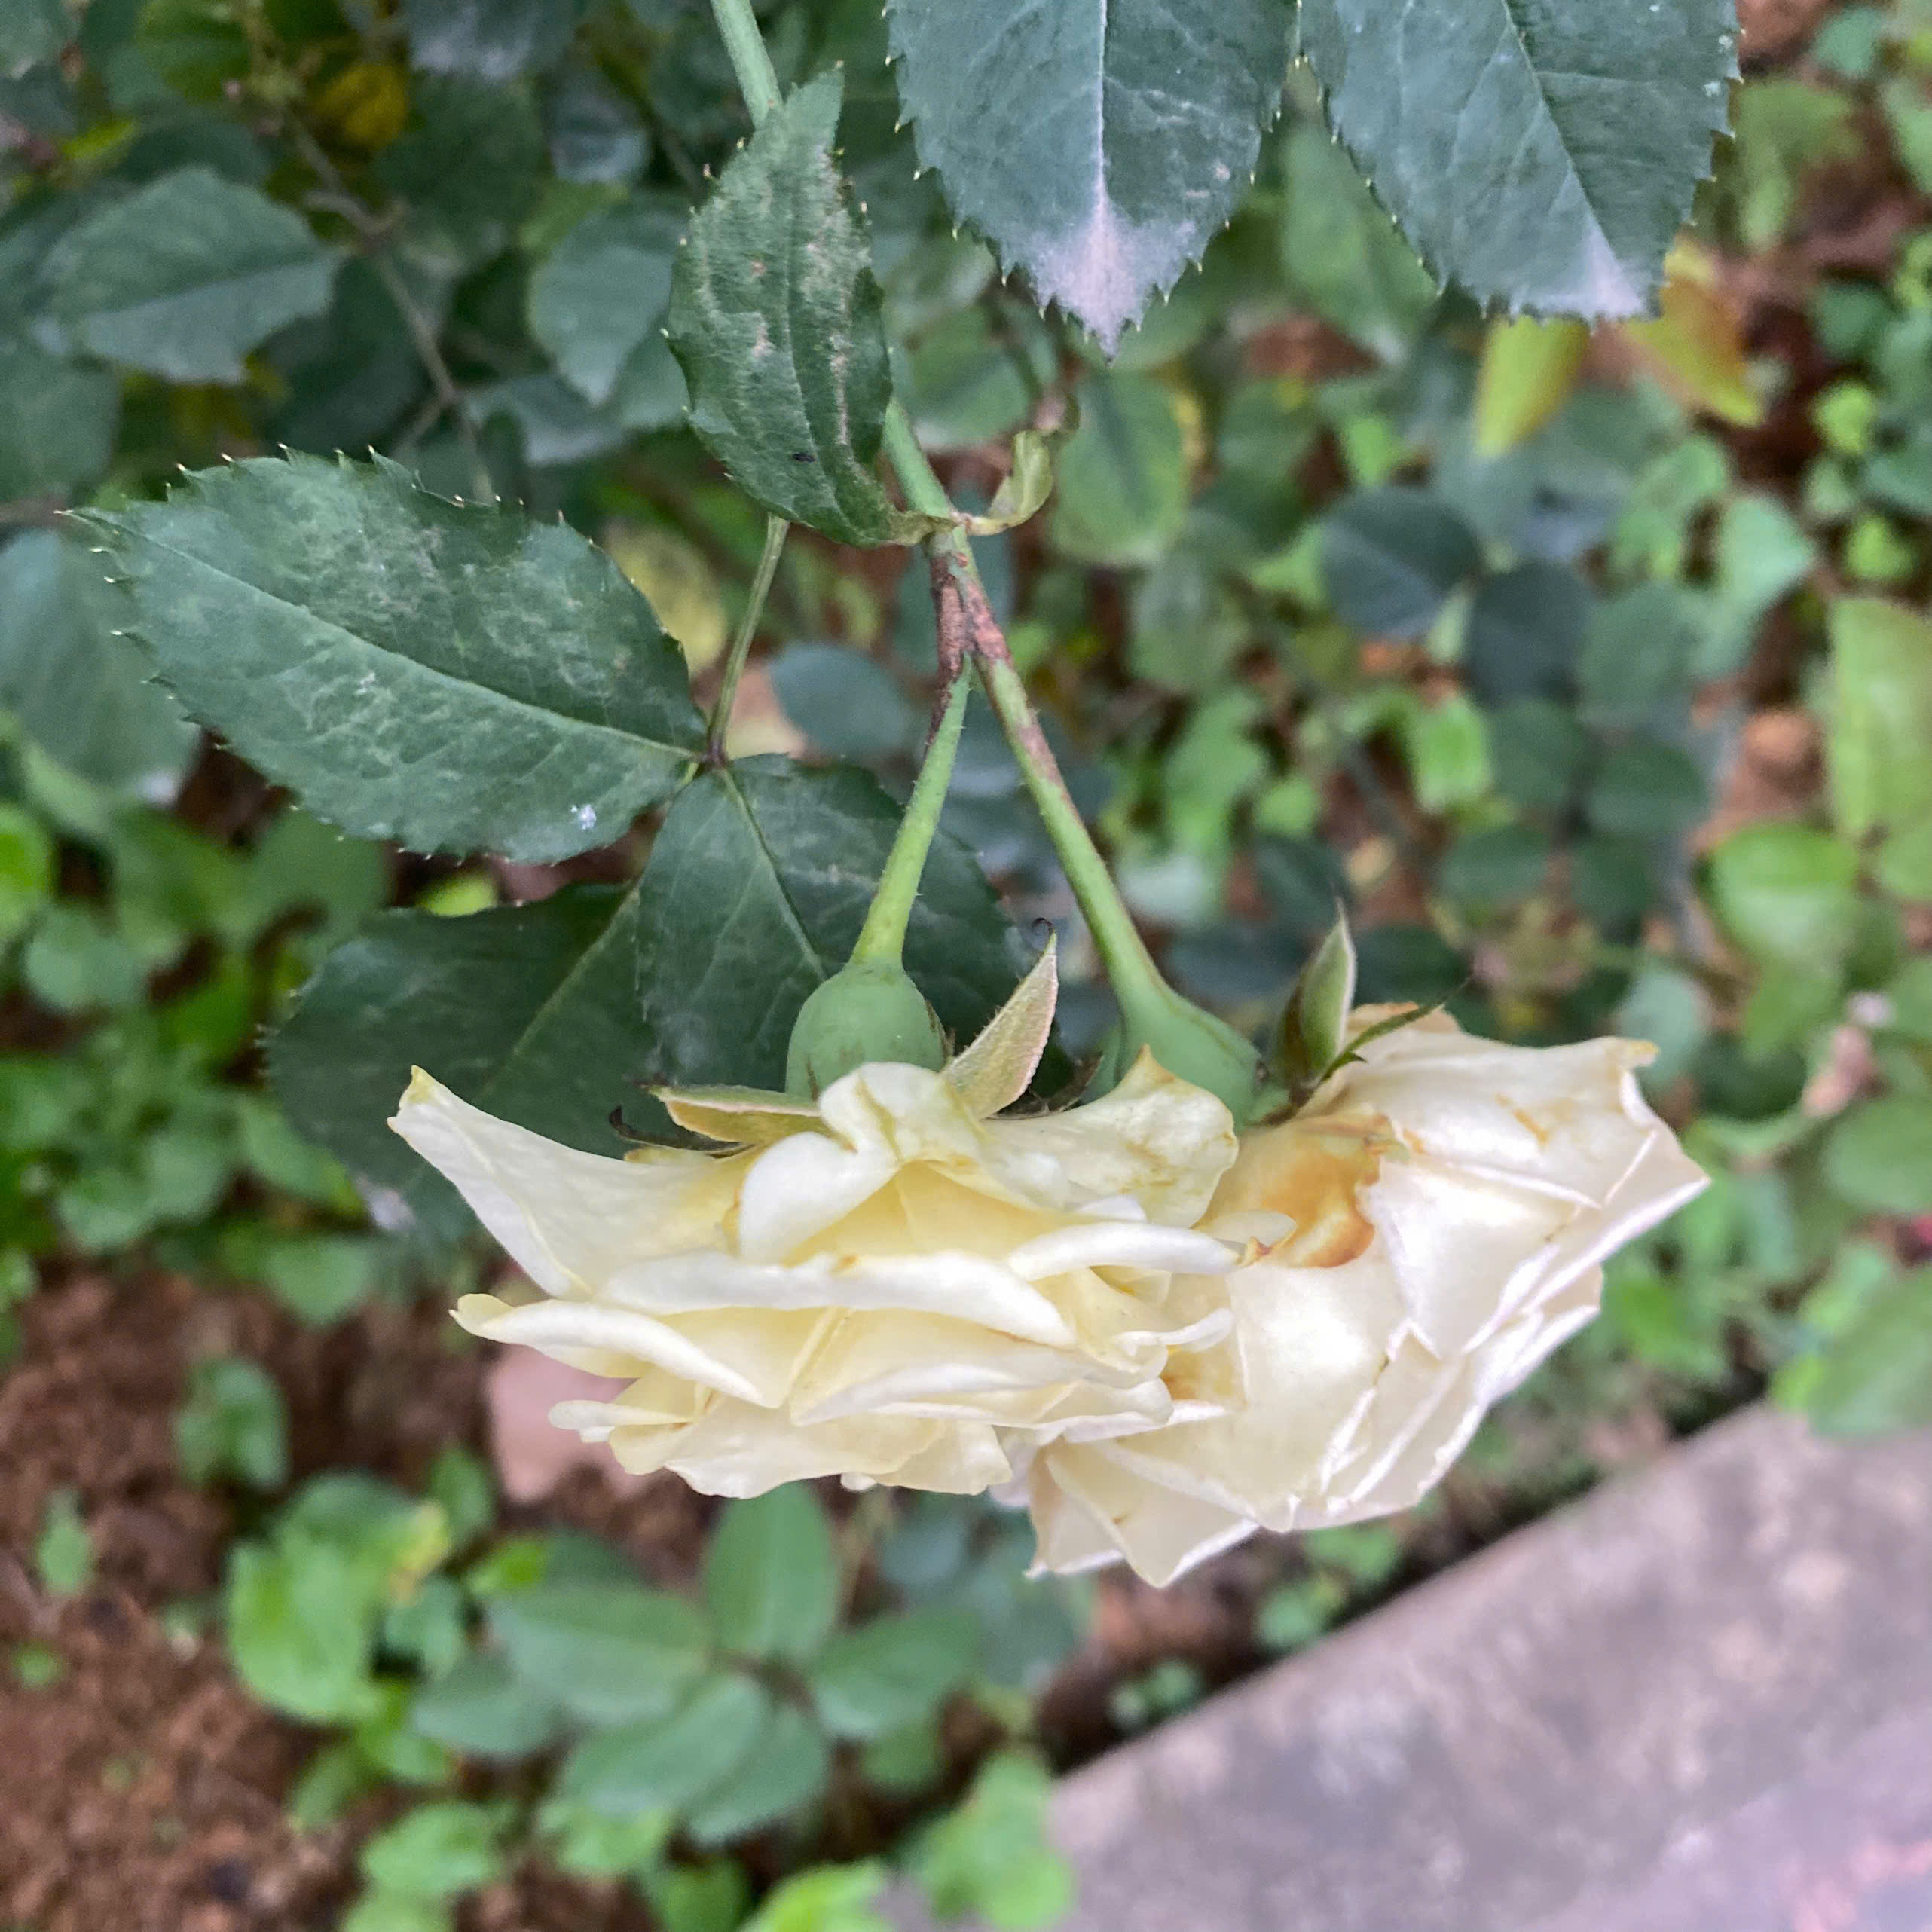hoa_thuoc_duoc: (175, 336, 1819, 1693)
